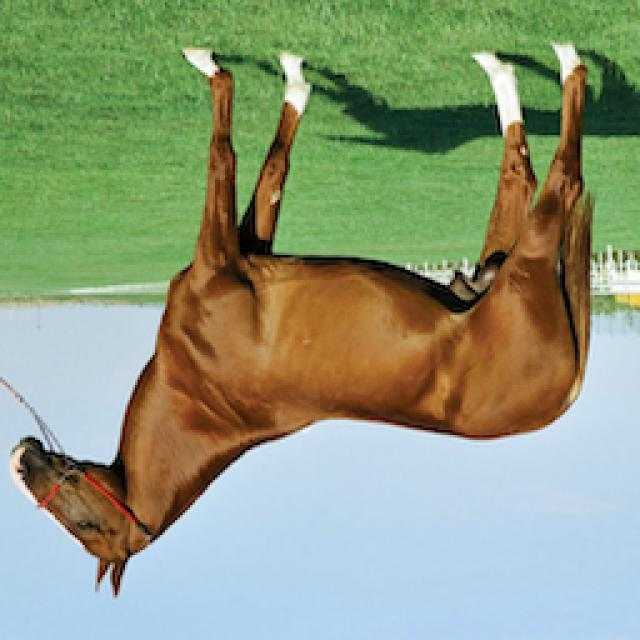Horse: (0, 35, 610, 603)
